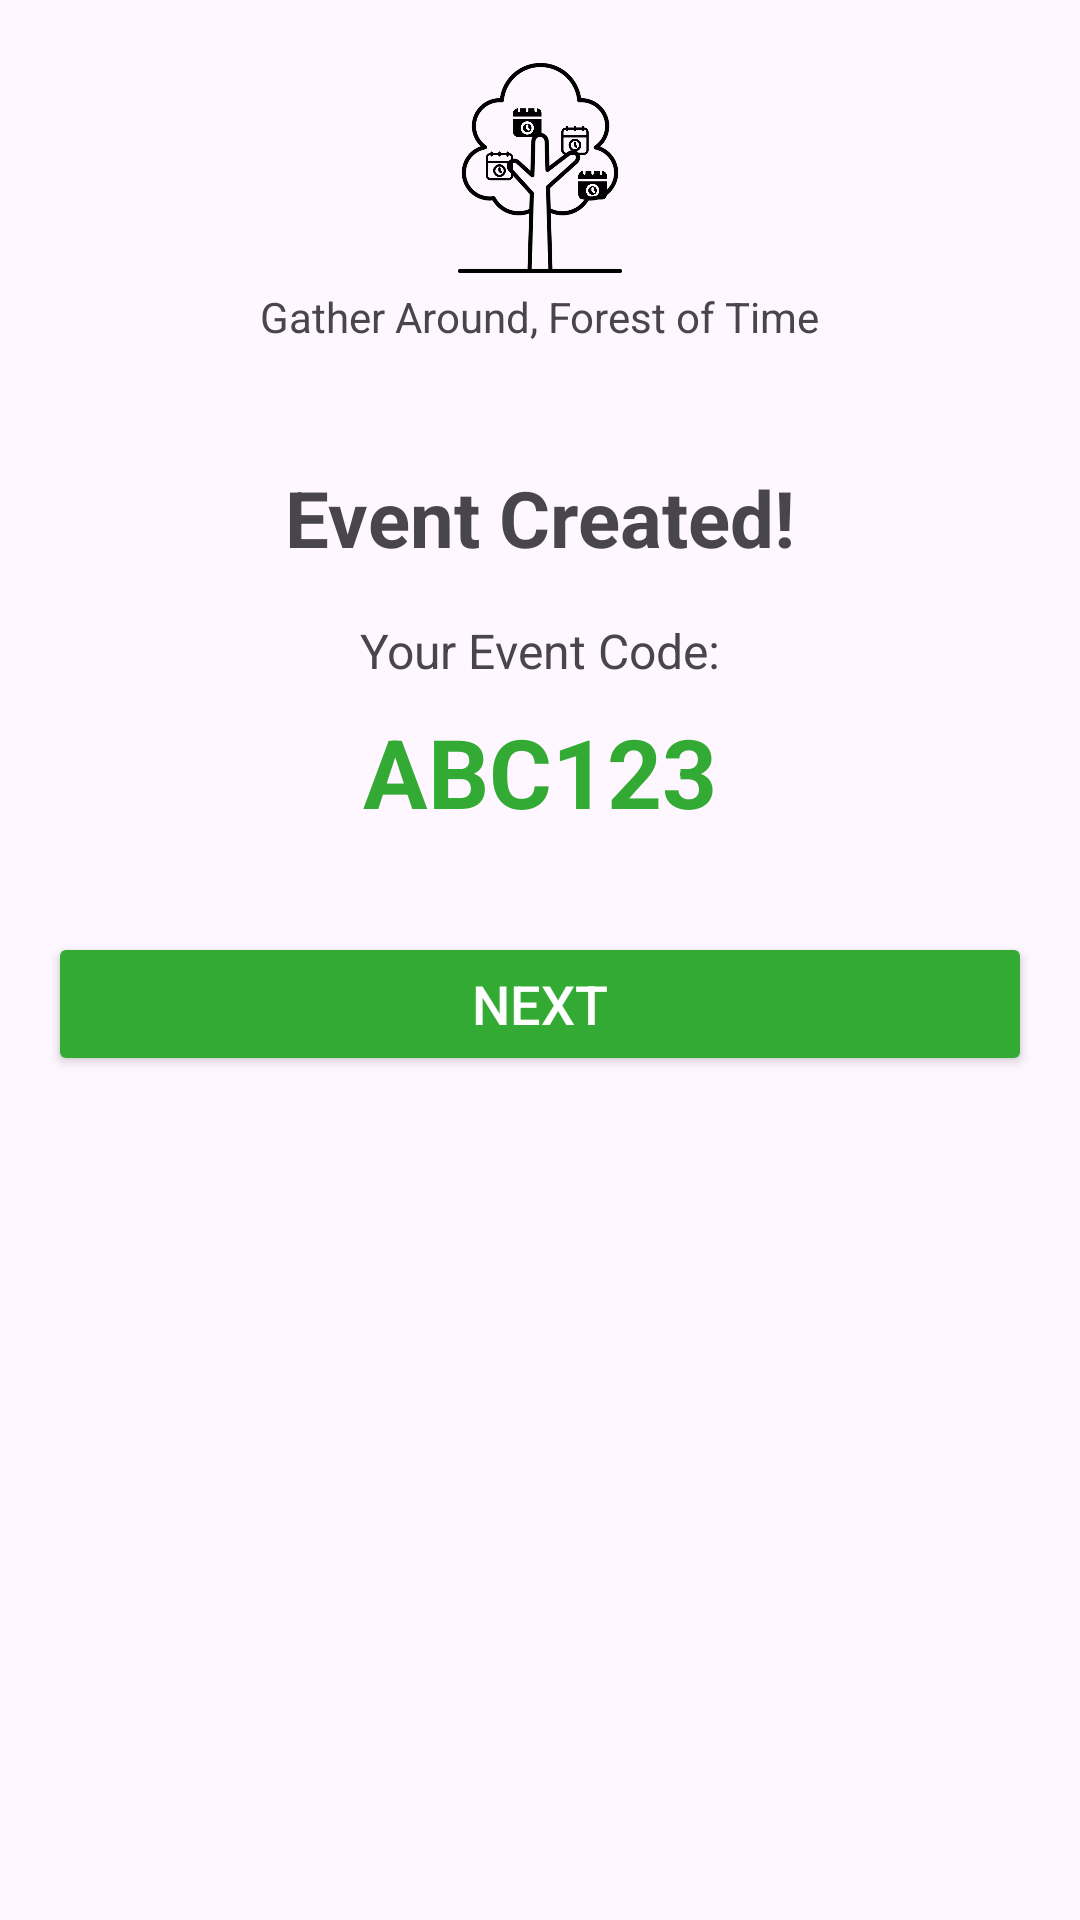

Icon click points for this 1080 x 1920 phone screenshot, format [x,y]:
tree: [540,168]
